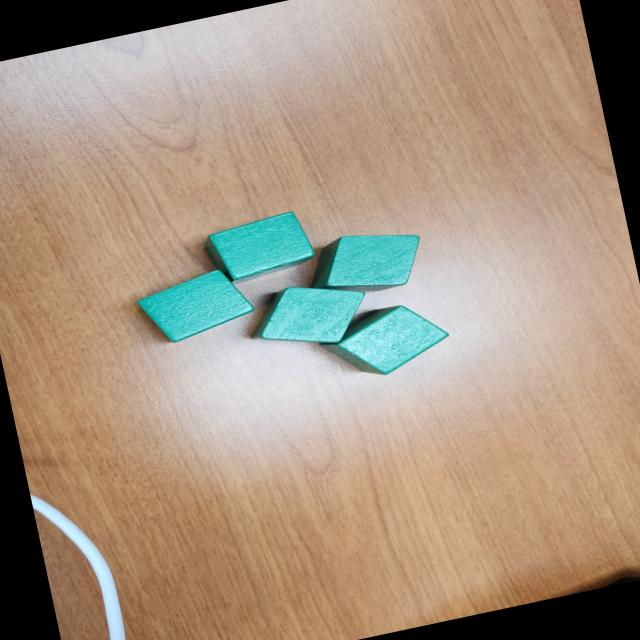green: (319, 294, 456, 386), (240, 271, 371, 360), (134, 262, 259, 348), (302, 220, 428, 304), (199, 208, 316, 287)
